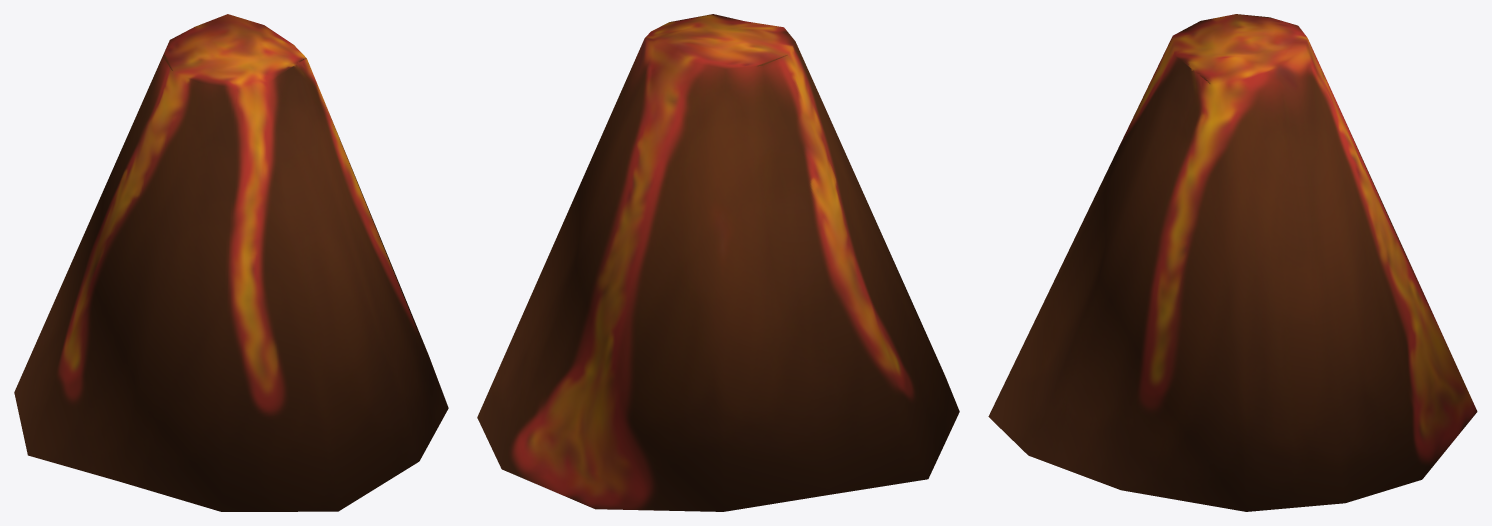
Rendered from Volcano.fbx.
3 renders of one model, left to right at view 1: azimuth 30°, elevation 25°; view 2: azimuth 150°, elevation 25°; view 3: azimuth 270°, elevation 25°, orthographic. The views are drawn at different scales.
Visible parts, largest first — view 1: Volcano; view 2: Volcano; view 3: Volcano.
Part boxes in pixels (x1,y1,x2,y2): Volcano: [14, 14, 448, 511]; Volcano: [477, 14, 959, 511]; Volcano: [988, 14, 1477, 511].
Bounding box in the file's own units: 1153 × 1036 × 1178.
